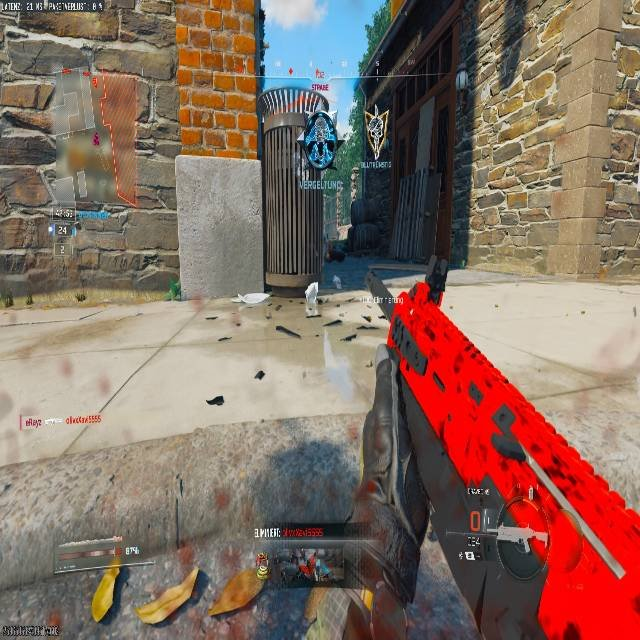player: (302, 104, 337, 173), (332, 275, 341, 289)
